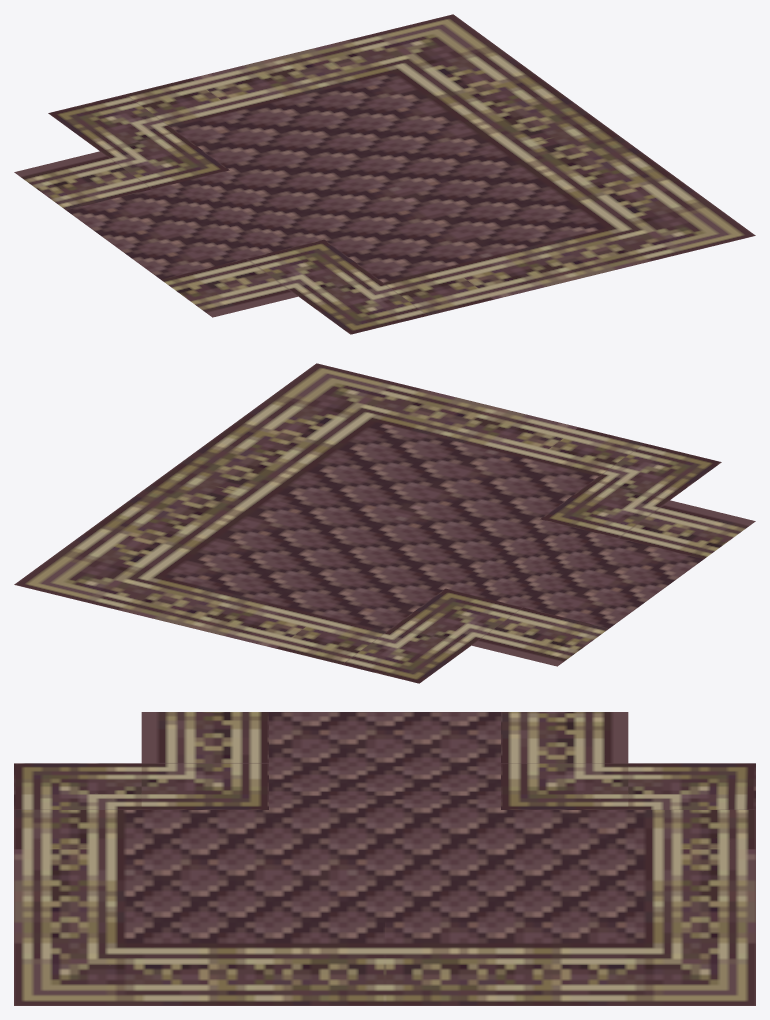
File: EnvMdrMD_Castle_A_GrdCpt_Stairs_BK_Library_B.FBX
3 views of the same model, one above another, from view 1: azimuth 30°, elevation 25°; view 2: azimuth 150°, elevation 25°; view 3: azimuth 270°, elevation 25° (orthographic). The views are drawn at different scales.
Parts seen in each view (by area): view 1: EnvMdrMD_Castle_A_GrdCpt_Stairs_BK_Library_B; view 2: EnvMdrMD_Castle_A_GrdCpt_Stairs_BK_Library_B; view 3: EnvMdrMD_Castle_A_GrdCpt_Stairs_BK_Library_B.
Boxes of the visible parts, x1,y1,x2,y2 form: EnvMdrMD_Castle_A_GrdCpt_Stairs_BK_Library_B: [14, 14, 755, 334]; EnvMdrMD_Castle_A_GrdCpt_Stairs_BK_Library_B: [14, 363, 755, 683]; EnvMdrMD_Castle_A_GrdCpt_Stairs_BK_Library_B: [14, 712, 755, 1005].
Size of the model in its own units: 375 by 2.49e-14 by 400.
1 material, 1 textured.
